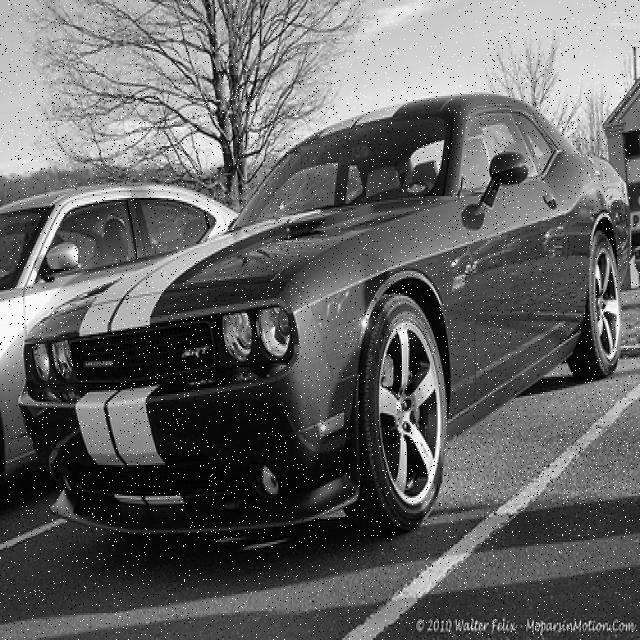Sedan: (18, 91, 631, 537)
